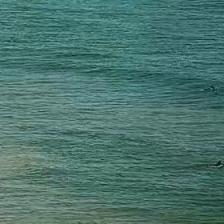surfer: (203, 85, 218, 91), (212, 160, 223, 168)
